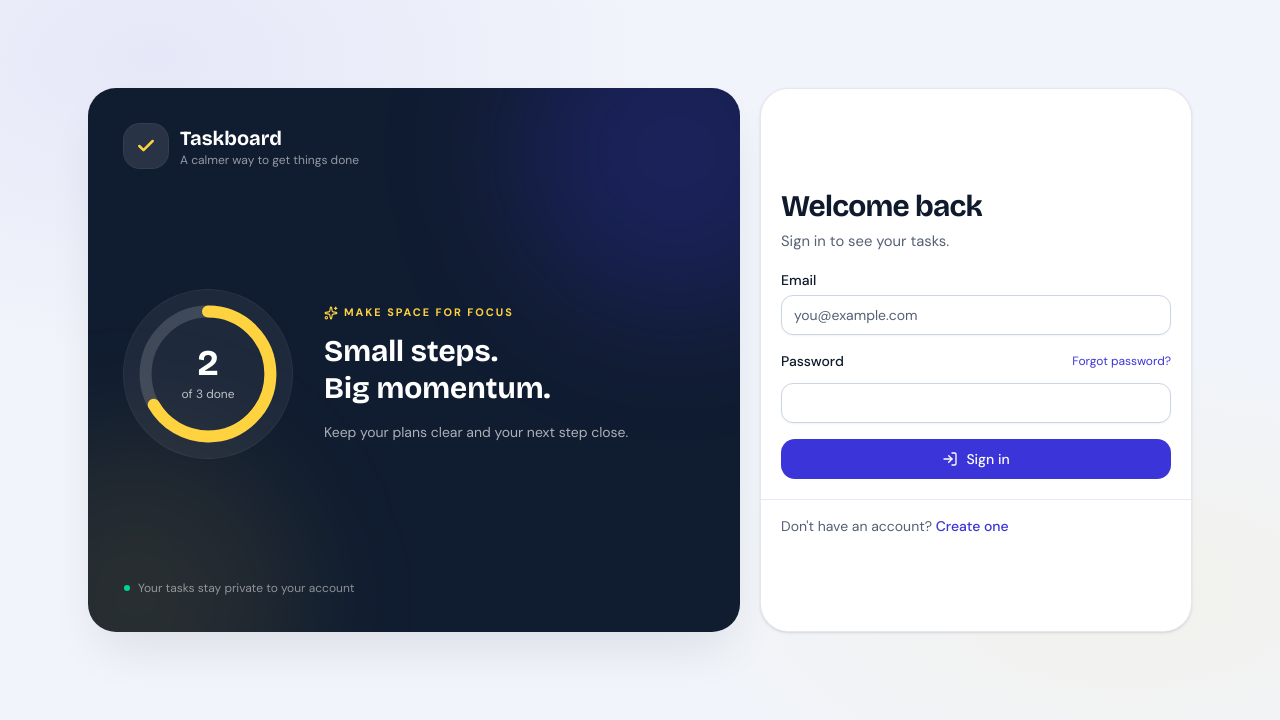
Test case: LoginPage › displays rejected login requests
Step 1. Type "alex@example.com" into the field labelled "Email" → [976, 315], box [781,295,1171,335]
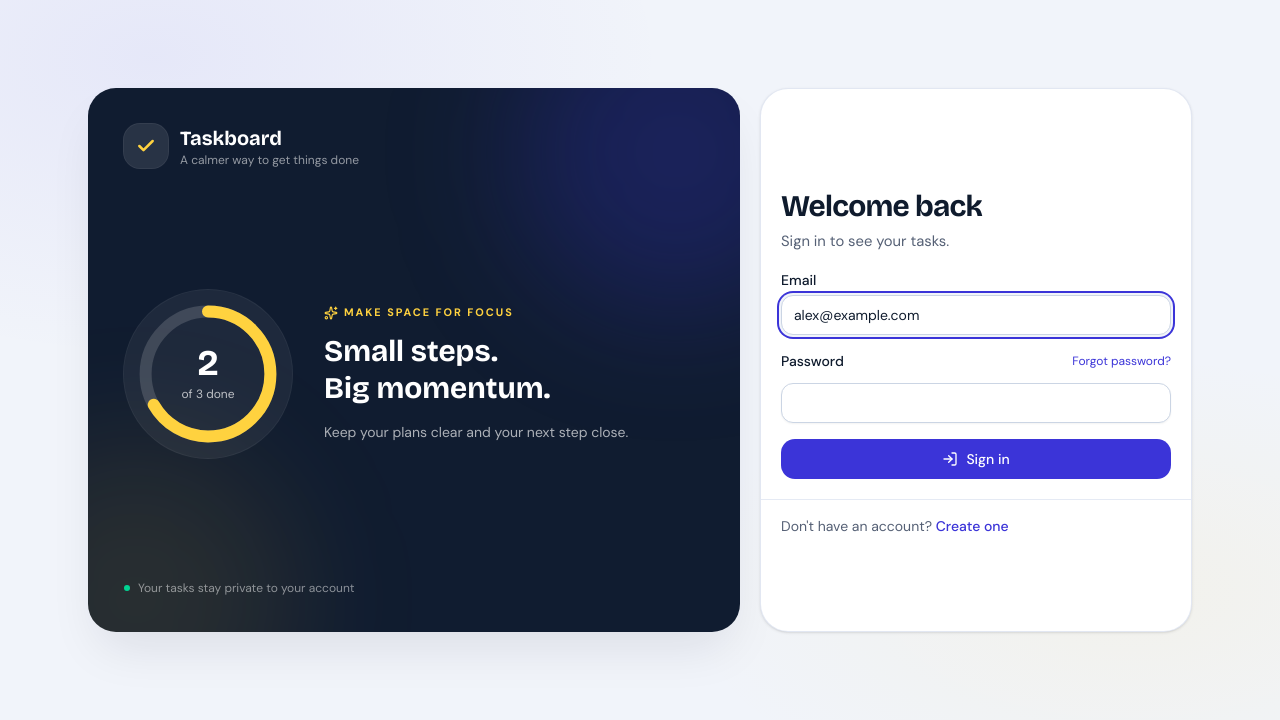
Step 2. Type "wrong-password" into the password field named "Password" → [976, 403], box [781,383,1171,423]
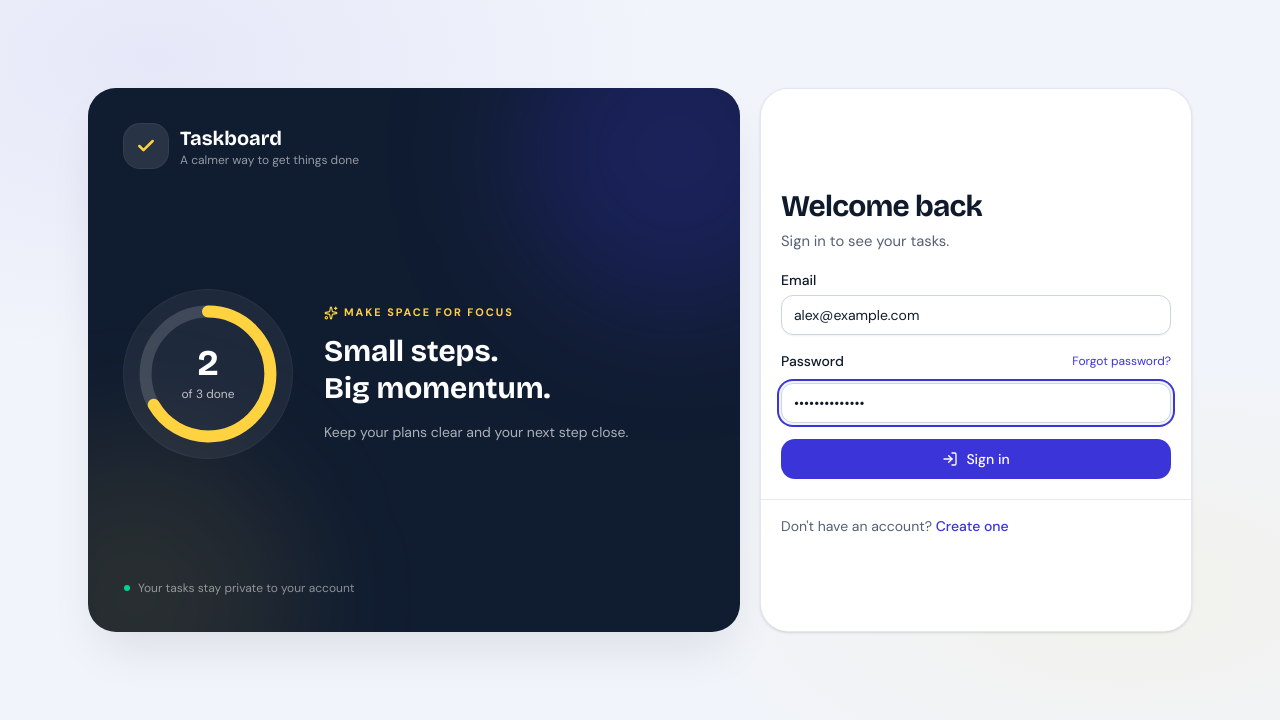
Step 3. Click the button "Sign in" → [976, 459], box [781,439,1171,479]
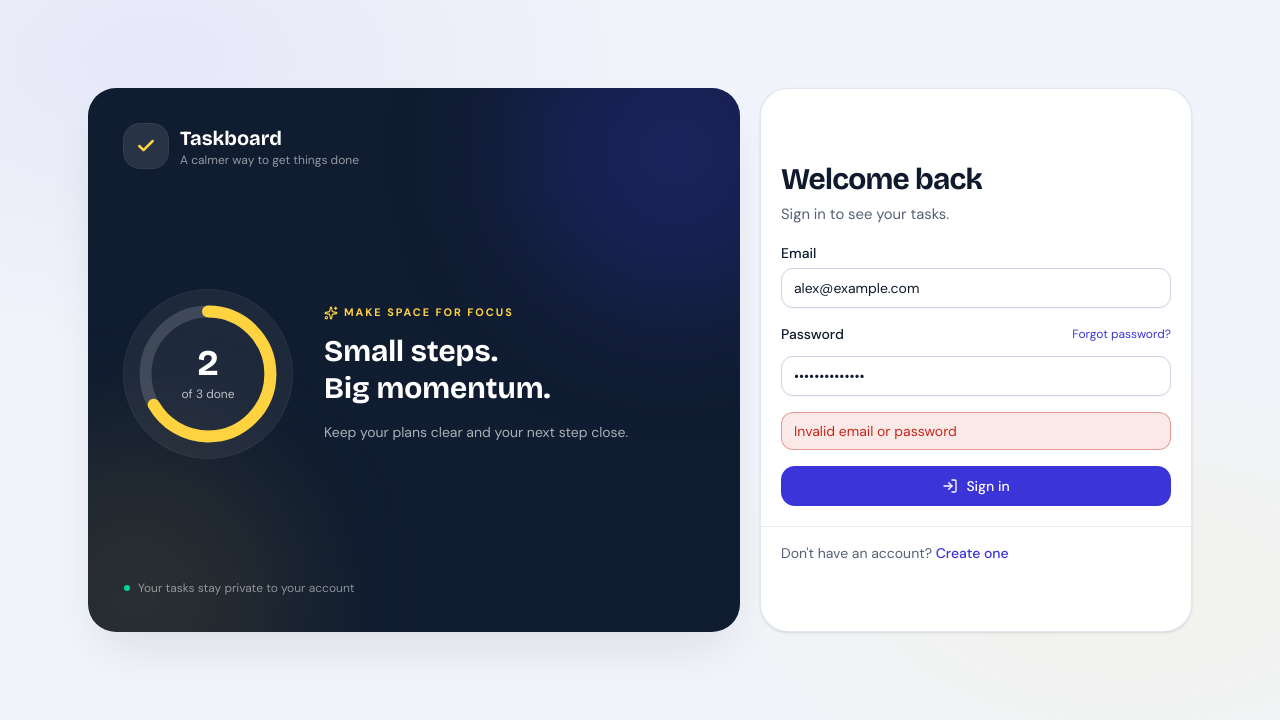
Now the message reads "Invalid email or password", box [794,422,957,440]
